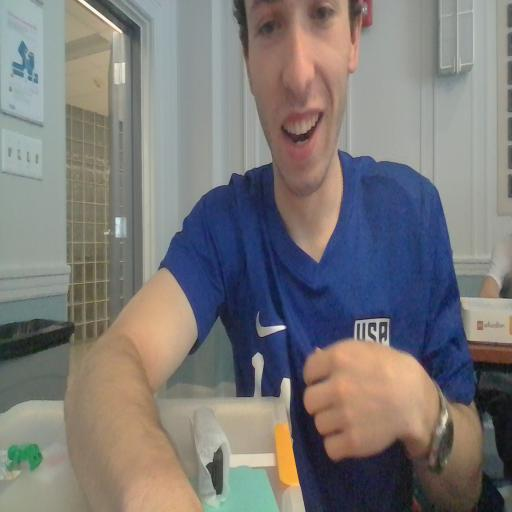green LEGO minifig: (5, 440, 45, 473)
